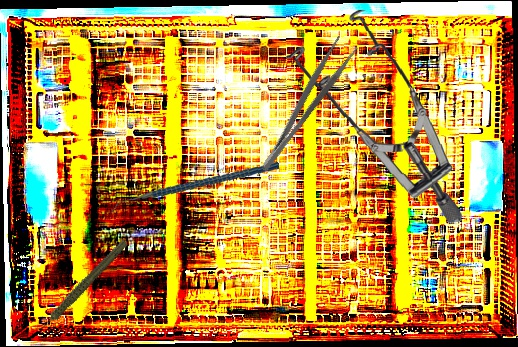Chopper: (110, 145, 280, 233)
Dressing Forceps: (248, 34, 360, 174)
Handpiece: (19, 238, 143, 333)
Speculum: (284, 6, 463, 228)
